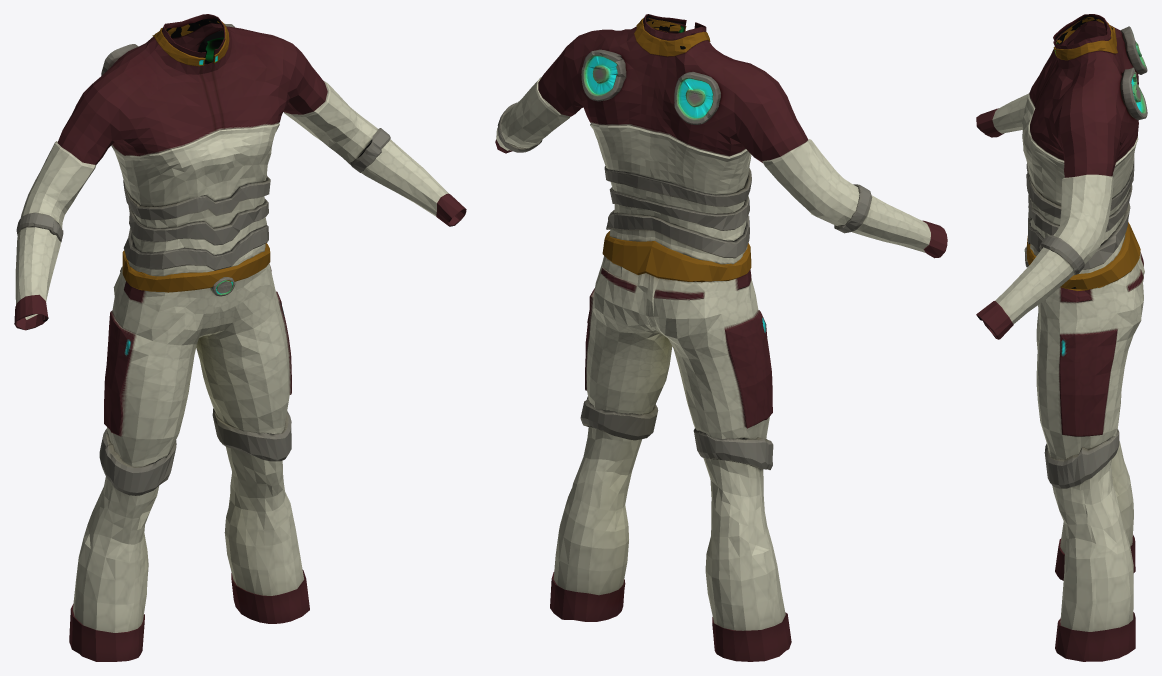
The model's file is mhw_thegreatengineer_galactic_warrior_uniform.glb.
The picture shows the model from 3 angles, left to right: view 1: azimuth 30°, elevation 25°; view 2: azimuth 150°, elevation 25°; view 3: azimuth 270°, elevation 25°; orthographic projection. The views are drawn at different scales.
Visible parts, largest first — view 1: mhw_thegreatengineer_galactic_warrior_uniform; view 2: mhw_thegreatengineer_galactic_warrior_uniform; view 3: mhw_thegreatengineer_galactic_warrior_uniform.
Boxes of the visible parts, box(x1,y1,x2,y2) form: mhw_thegreatengineer_galactic_warrior_uniform: box(14, 14, 466, 661); mhw_thegreatengineer_galactic_warrior_uniform: box(495, 14, 947, 661); mhw_thegreatengineer_galactic_warrior_uniform: box(976, 14, 1147, 661).
Bounding box in the file's own units: 1.12 × 1.44 × 0.3814.
1 material, 1 textured.
